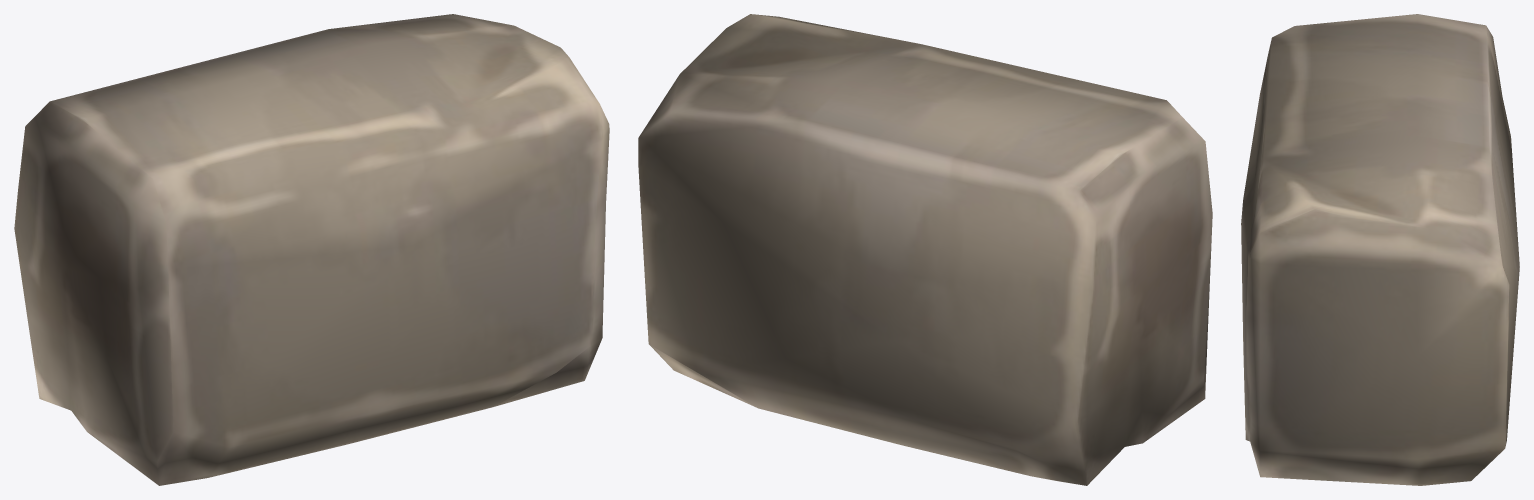
The model's file is Prop_Brick3.gltf.
The picture shows the model from 3 angles, left to right: view 1: azimuth 30°, elevation 25°; view 2: azimuth 150°, elevation 25°; view 3: azimuth 270°, elevation 25°; orthographic projection. The views are drawn at different scales.
Visible parts, largest first — view 1: Prop_Brick3; view 2: Prop_Brick3; view 3: Prop_Brick3.
Part boxes in pixels (bbox=[...]): Prop_Brick3: bbox=[14, 14, 609, 485]; Prop_Brick3: bbox=[638, 14, 1212, 485]; Prop_Brick3: bbox=[1241, 14, 1519, 485].
Size of the model in its own units: 0.3814 by 0.2497 by 0.2156.
1 material, 1 textured.
